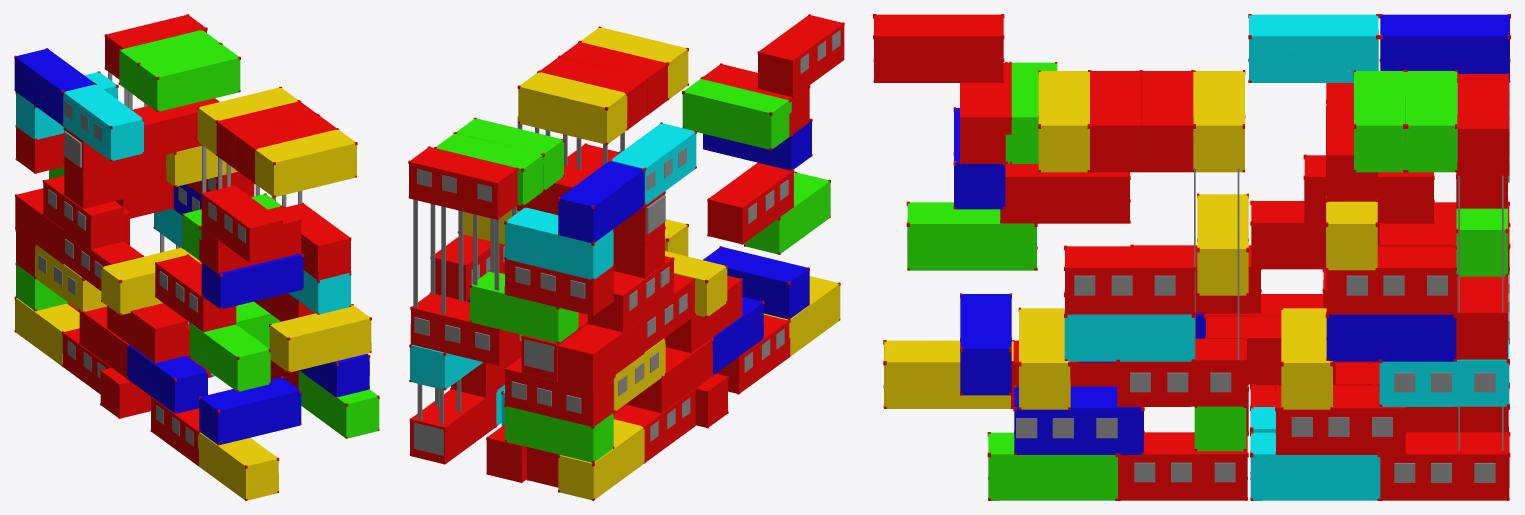
The model's file is ParentPart26FBX.FBX.
3 renders of one model, left to right at view 1: azimuth 30°, elevation 25°; view 2: azimuth 150°, elevation 25°; view 3: azimuth 270°, elevation 25°, orthographic. The views are drawn at different scales.
Visible parts, largest first — view 1: ParentPart26; view 2: ParentPart26; view 3: ParentPart26.
Part boxes in pixels (x1,y1,x2,y2): ParentPart26: (14, 14, 379, 500); ParentPart26: (408, 14, 844, 500); ParentPart26: (873, 14, 1510, 500).
Size of the model in its own units: 4.63 by 10.09 by 6.51.
